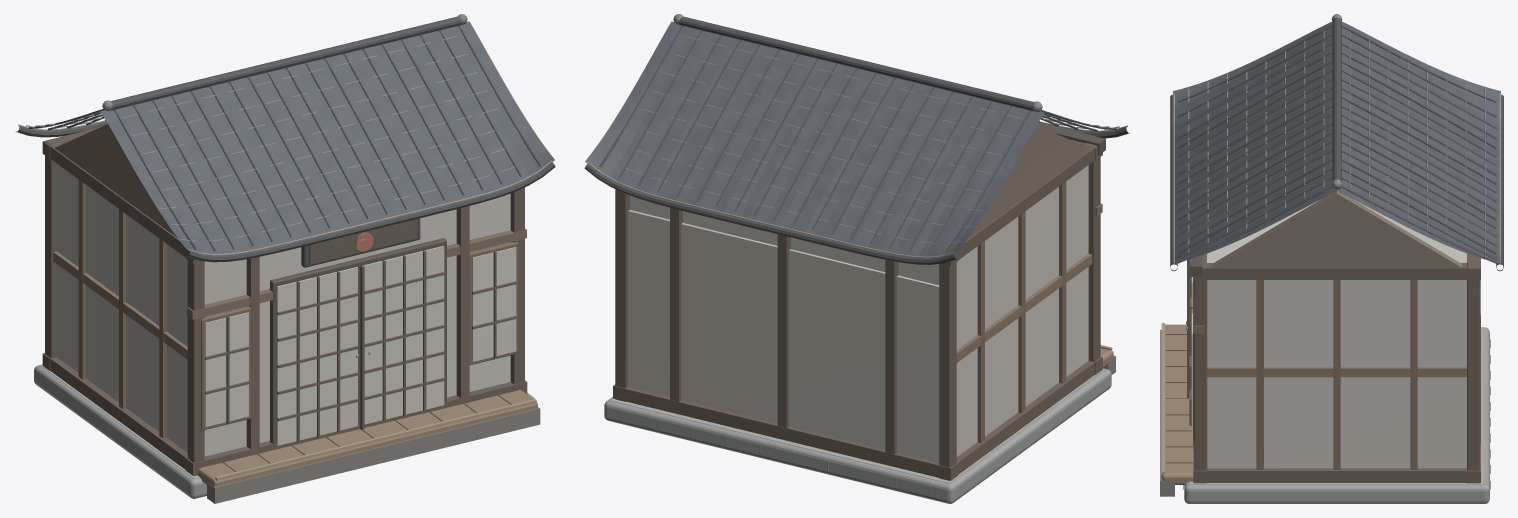
File: dojo.glb
3 views of the same model, side by side, from view 1: azimuth 30°, elevation 25°; view 2: azimuth 150°, elevation 25°; view 3: azimuth 270°, elevation 25° (orthographic). The views are drawn at different scales.
Parts seen in each view (by area): view 1: dojo; view 2: dojo; view 3: dojo.
Boxes of the visible parts, x1,y1,x2,y2 form: dojo: [15, 14, 555, 503]; dojo: [584, 14, 1129, 503]; dojo: [1160, 14, 1503, 503].
Size of the model in its own units: 4.5 by 4 by 3.8.
